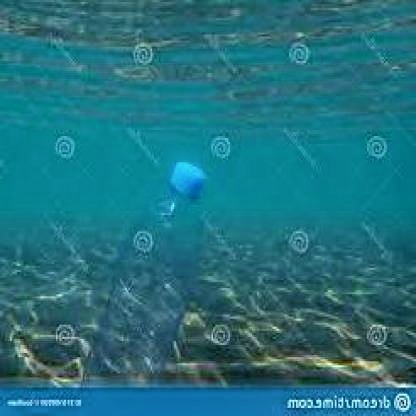pbottle: (66, 156, 223, 388)
